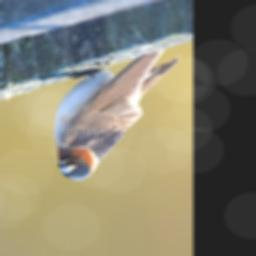Swallow: (53, 44, 180, 181)
